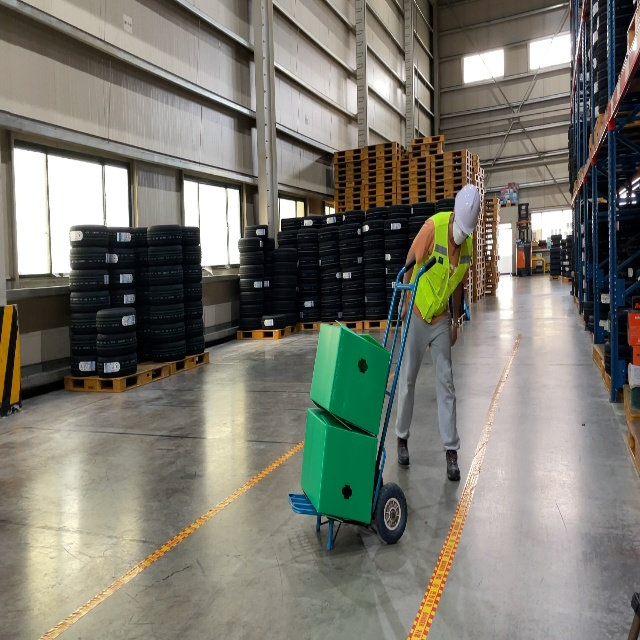Box: (309, 319, 391, 436), (300, 407, 378, 525)
Worker: (395, 182, 481, 482)
